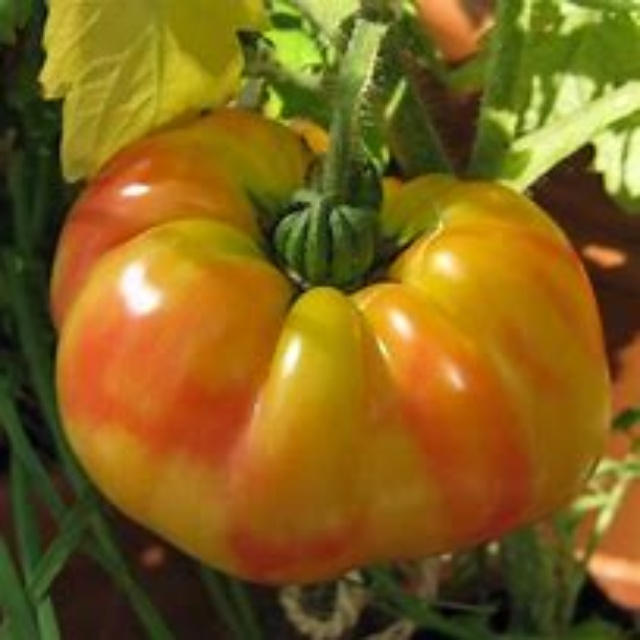tomato: (59, 109, 609, 583)
